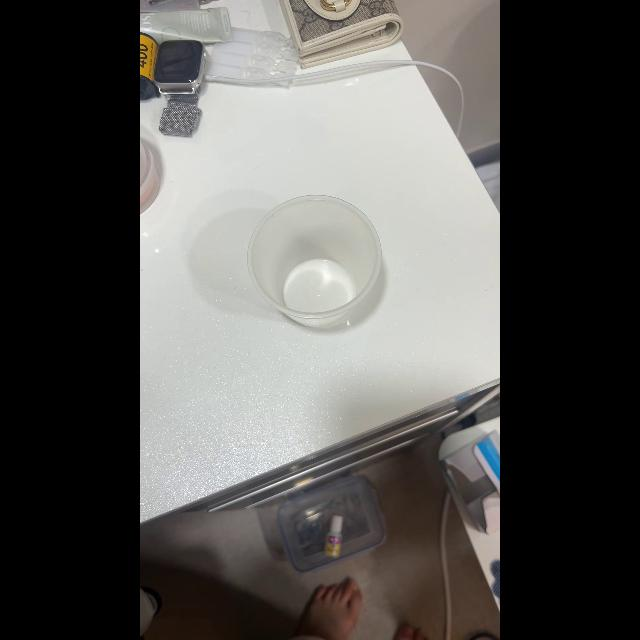clean: (247, 194, 396, 334)
